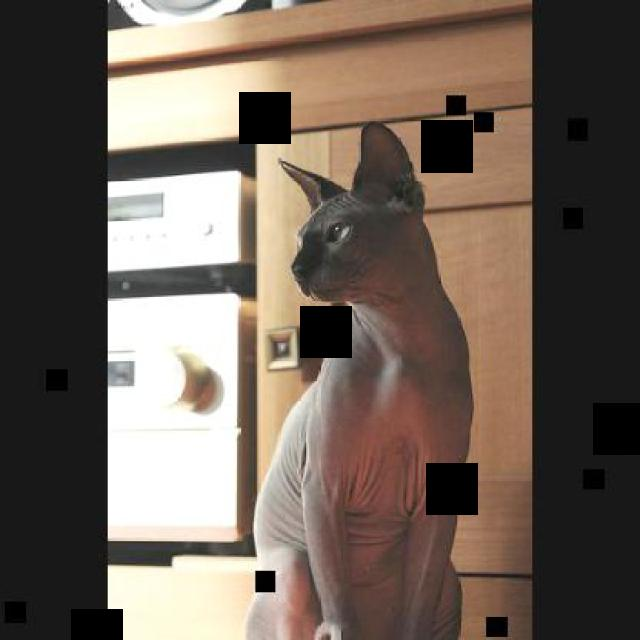unauthorized: (251, 119, 475, 638)
